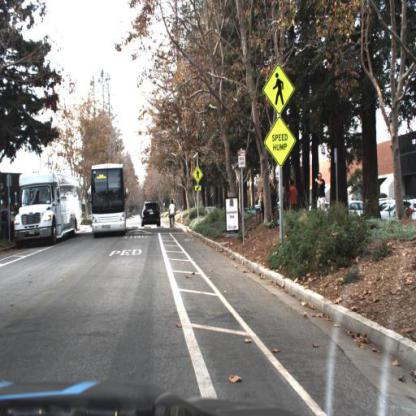biker: (168, 197, 180, 233)
car: (140, 200, 163, 230)
pedestrian: (314, 171, 328, 211), (290, 178, 300, 209), (283, 181, 290, 210)
truck: (14, 168, 84, 249), (87, 162, 129, 240)
